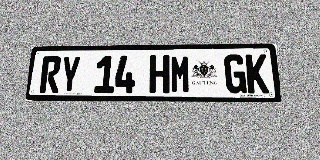1: (94, 56, 115, 93)
4: (114, 55, 136, 93)
G: (224, 54, 247, 93)
H: (149, 55, 170, 93)
K: (245, 54, 269, 93)
M: (170, 55, 191, 93)
R: (39, 56, 62, 93)
Y: (59, 56, 81, 93)
